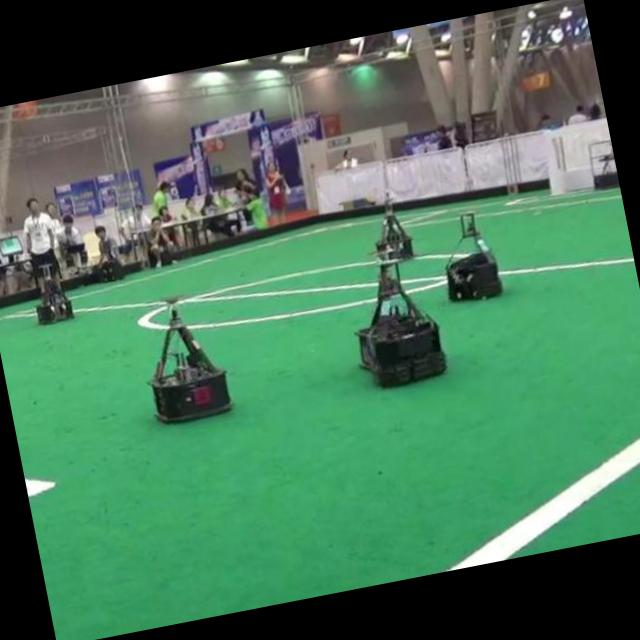goal: (543, 130, 563, 194)
robot: (358, 261, 448, 387), (151, 305, 230, 421), (447, 212, 504, 298), (377, 192, 413, 260), (36, 264, 72, 323), (591, 139, 620, 188)
